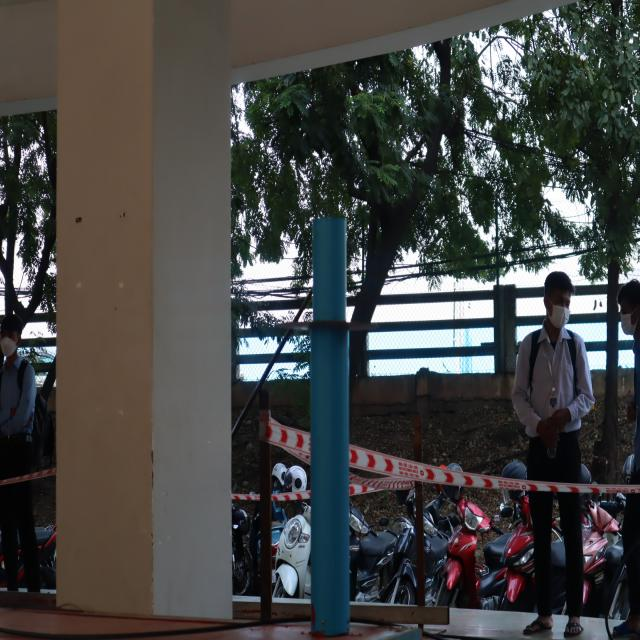pole: (282, 218, 384, 406)
